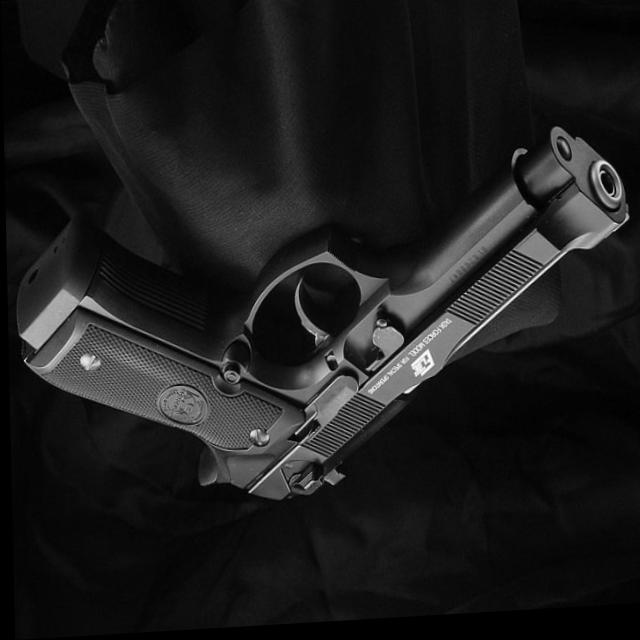handgun: (12, 133, 630, 519)
